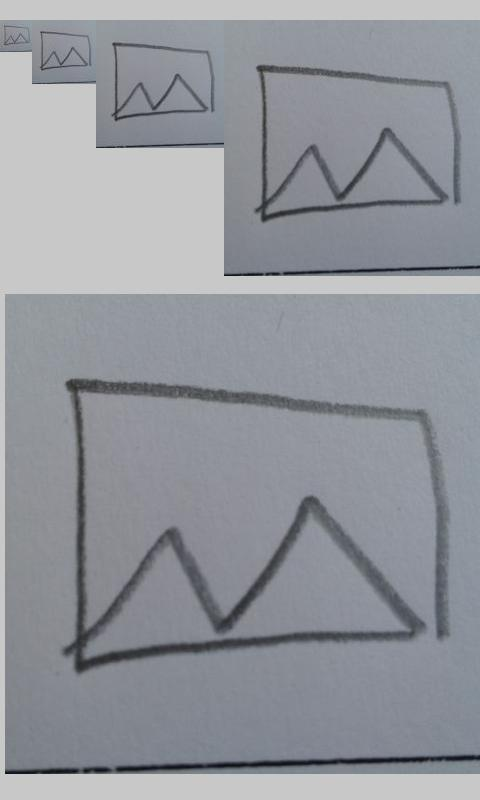image_view: (69, 379, 451, 680), (257, 63, 463, 224), (111, 40, 217, 123), (40, 30, 92, 71), (3, 24, 31, 46)
